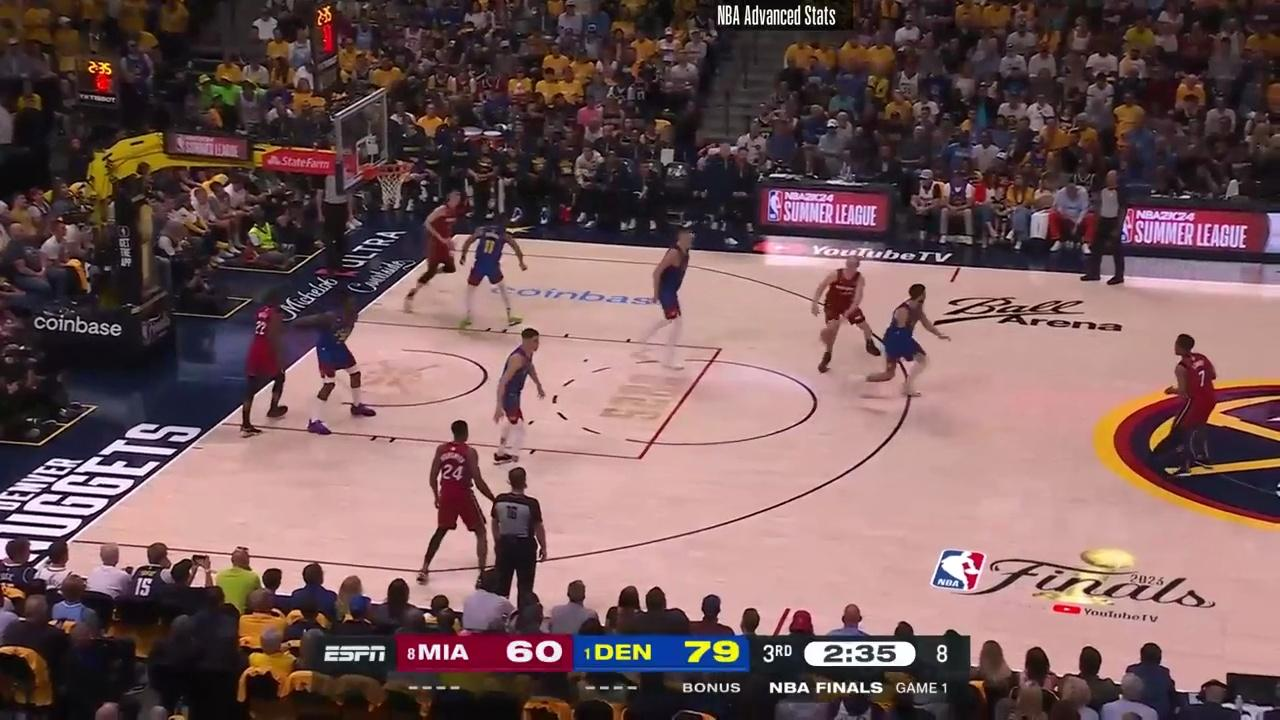Backboard: (344, 92, 390, 198)
Ball: (818, 327, 839, 344)
Basket: (375, 162, 410, 207)
Person: (421, 418, 501, 588), (227, 288, 315, 438), (291, 286, 376, 437), (629, 226, 694, 370), (486, 324, 549, 472), (872, 280, 947, 402), (1165, 331, 1228, 472), (458, 210, 528, 334), (813, 251, 882, 374), (397, 199, 463, 312)
Referee: (482, 465, 560, 617), (1085, 171, 1135, 283)
Shot Clock: (306, 5, 344, 92), (75, 58, 124, 123)
